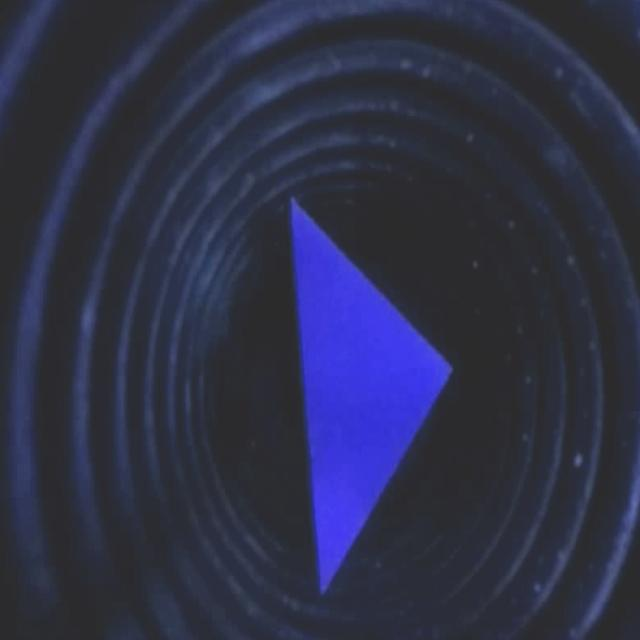obstacles: (287, 200, 450, 590)
